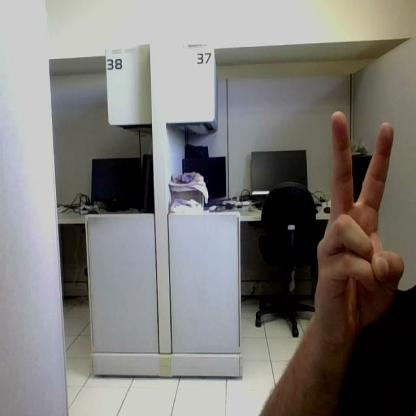V: (314, 113, 404, 336)
